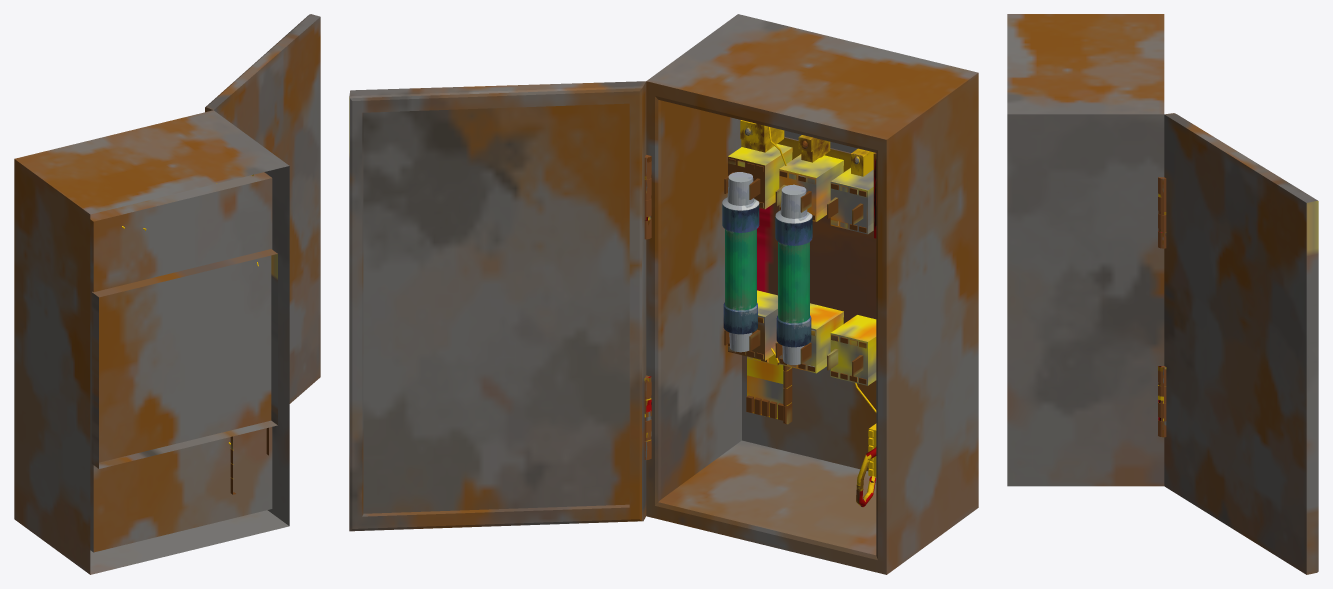
Rendered from fusebox.fbx.
The picture shows the model from 3 angles, left to right: view 1: azimuth 30°, elevation 25°; view 2: azimuth 150°, elevation 25°; view 3: azimuth 270°, elevation 25°; orthographic projection. The views are drawn at different scales.
Parts seen in each view (by area): view 1: Cube.010, Cube.034; view 2: Cube.010, Cube.032, Cube.034, Cylinder.011, Cylinder.004, Cube.046, Cube.013, Cube.044; view 3: Cube.010, Cube.013.
Part boxes in pixels (bbox=[...]): Cube.010: bbox=[14, 14, 320, 574]; Cube.034: bbox=[91, 249, 277, 468]; Cube.010: bbox=[349, 14, 978, 574]; Cube.032: bbox=[724, 144, 876, 385]; Cube.034: bbox=[757, 137, 876, 323]; Cylinder.011: bbox=[722, 172, 759, 352]; Cylinder.004: bbox=[775, 184, 812, 364]; Cube.046: bbox=[746, 355, 792, 424]; Cube.013: bbox=[644, 155, 651, 460]; Cube.044: bbox=[740, 120, 784, 152]; Cube.010: bbox=[1007, 14, 1318, 574]; Cube.013: bbox=[1158, 177, 1166, 437].
Bounding box in the file's own units: 168 × 154 × 117.
